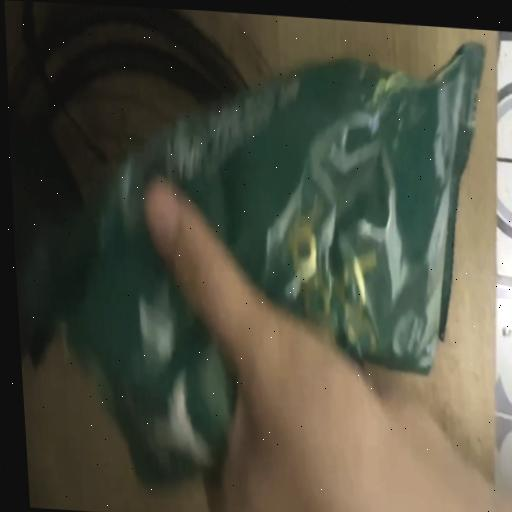cafe_xay: (26, 42, 484, 484)
